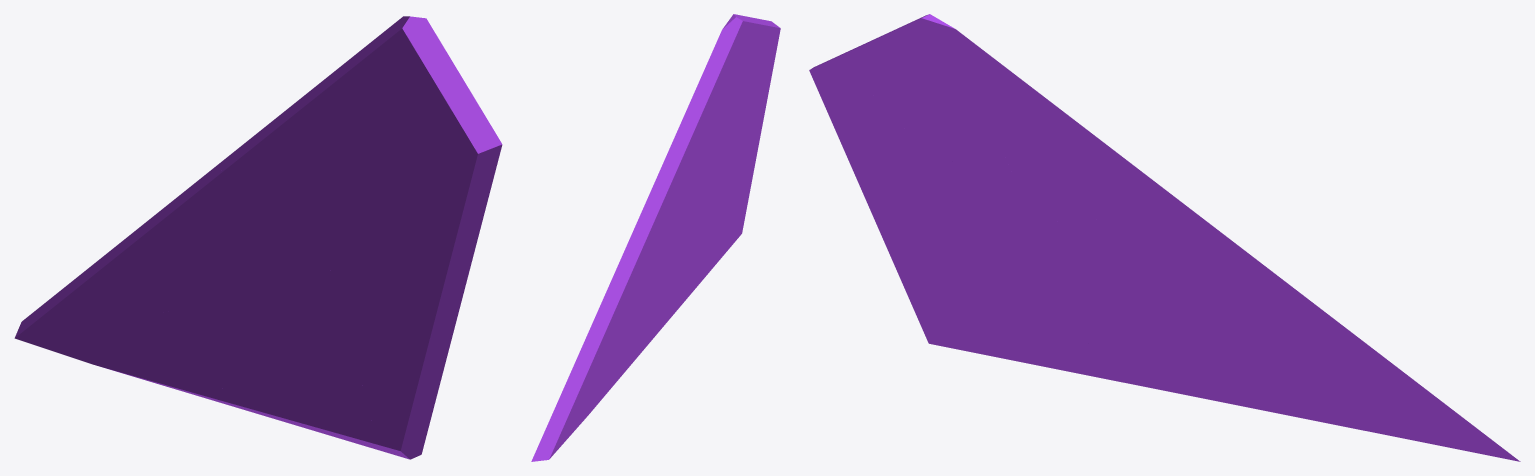
The model's file is Window_44_6_chunks.fbx.
3 renders of one model, left to right at view 1: azimuth 30°, elevation 25°; view 2: azimuth 150°, elevation 25°; view 3: azimuth 270°, elevation 25°, orthographic. The views are drawn at different scales.
Parts seen in each view (by area): view 1: Window_44_6_7, Window_44_6_2, Window_44_6_4, Window_44_6_5, Window_44_6_1, Window_44_6_8, Window_44_6_9, Window_44_6_12, Window_44_6_15, Window_44_6_11, Window_44_6_6, Window_44_6_13; view 2: Window_44_6_1, Window_44_6_7, Window_44_6_2, Window_44_6_5, Window_44_6_9, Window_44_6_8, Window_44_6_11, Window_44_6_4, Window_44_6_12, Window_44_6_15, Window_44_6_6, Window_44_6_13; view 3: Window_44_6_7, Window_44_6_1, Window_44_6_2, Window_44_6_5, Window_44_6_4, Window_44_6_9, Window_44_6_6, Window_44_6_8, Window_44_6_11, Window_44_6_0, Window_44_6_15, Window_44_6_3 (+1 smaller).
Boxes of the visible parts, x1=… form: Window_44_6_7: x1=245, y1=192, x2=393, y2=454; Window_44_6_2: x1=321, y1=169, x2=439, y2=459; Window_44_6_4: x1=393, y1=114, x2=502, y2=385; Window_44_6_5: x1=343, y1=16, x2=483, y2=217; Window_44_6_1: x1=219, y1=16, x2=405, y2=236; Window_44_6_8: x1=170, y1=156, x2=247, y2=306; Window_44_6_9: x1=14, y1=268, x2=189, y2=343; Window_44_6_12: x1=166, y1=294, x2=266, y2=401; Window_44_6_15: x1=31, y1=312, x2=175, y2=384; Window_44_6_11: x1=80, y1=180, x2=198, y2=275; Window_44_6_6: x1=226, y1=351, x2=325, y2=434; Window_44_6_13: x1=161, y1=353, x2=240, y2=405; Window_44_6_1: x1=635, y1=25, x2=733, y2=228; Window_44_6_7: x1=664, y1=185, x2=730, y2=287; Window_44_6_2: x1=702, y1=123, x2=751, y2=246; Window_44_6_5: x1=713, y1=14, x2=771, y2=134; Window_44_6_9: x1=531, y1=311, x2=636, y2=461; Window_44_6_8: x1=620, y1=216, x2=665, y2=315; Window_44_6_11: x1=560, y1=261, x2=628, y2=395; Window_44_6_4: x1=738, y1=19, x2=780, y2=181; Window_44_6_12: x1=625, y1=269, x2=674, y2=348; Window_44_6_15: x1=557, y1=336, x2=629, y2=449; Window_44_6_6: x1=661, y1=281, x2=695, y2=328; Window_44_6_13: x1=622, y1=326, x2=661, y2=374; Window_44_6_7: x1=954, y1=217, x2=1154, y2=366; Window_44_6_1: x1=945, y1=23, x2=1212, y2=226; Window_44_6_2: x1=902, y1=180, x2=1036, y2=348; Window_44_6_5: x1=836, y1=14, x2=1005, y2=162; Window_44_6_4: x1=809, y1=56, x2=937, y2=282; Window_44_6_9: x1=1224, y1=331, x2=1520, y2=461; Window_44_6_6: x1=1045, y1=308, x2=1276, y2=413; Window_44_6_8: x1=1151, y1=222, x2=1261, y2=350; Window_44_6_11: x1=1258, y1=261, x2=1433, y2=395; Window_44_6_0: x1=946, y1=26, x2=1069, y2=227; Window_44_6_15: x1=1265, y1=374, x2=1397, y2=437; Window_44_6_3: x1=935, y1=158, x2=1014, y2=198.
Size of the model in its own units: 27.2 by 729 by 1057.
